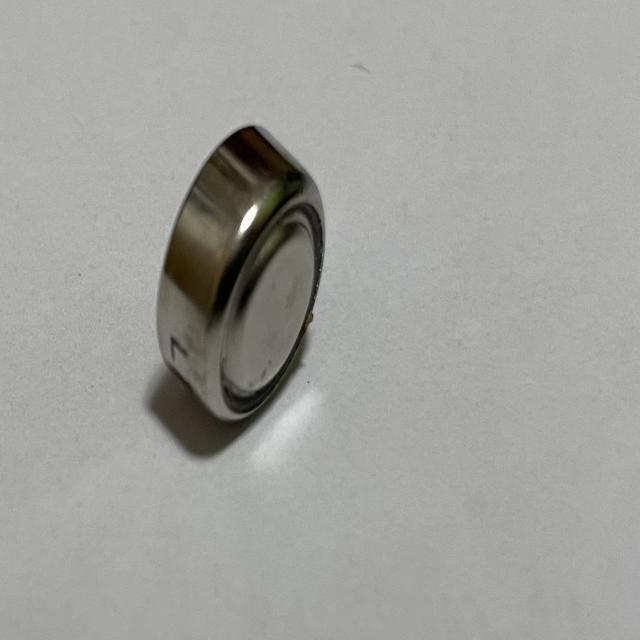COIN: (154, 122, 327, 428)
